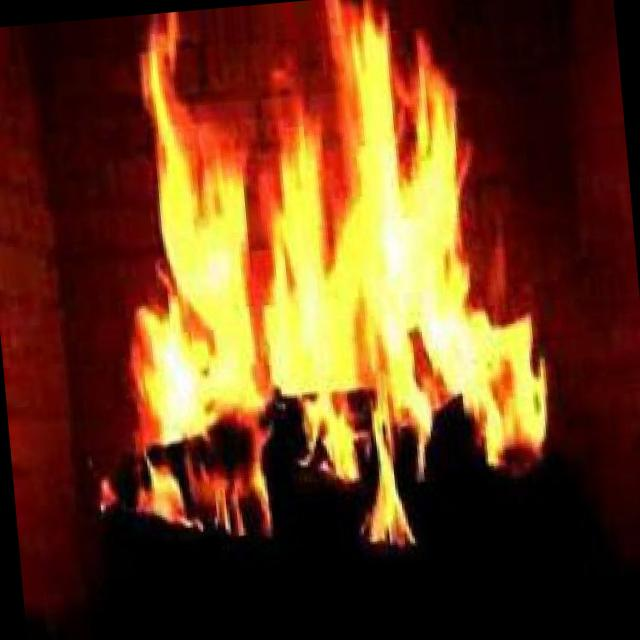Fire: (49, 0, 567, 581)
